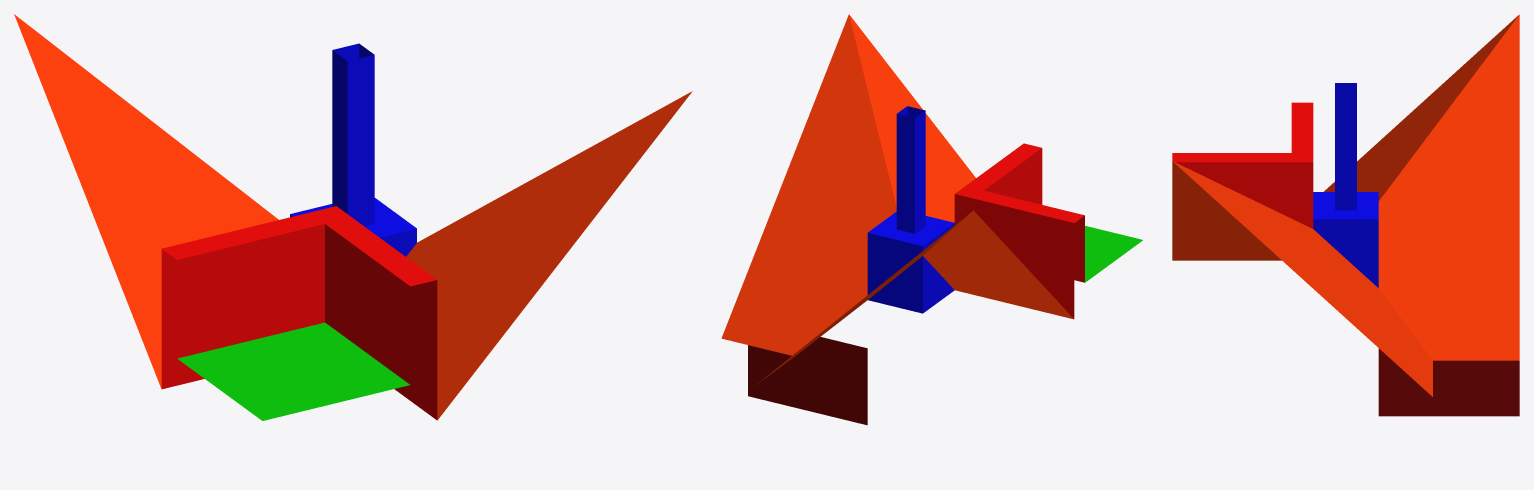
File: None_E_S_E_E_S_W_E_E_BigStrut.fbx
3 renders of one model, left to right at view 1: azimuth 30°, elevation 25°; view 2: azimuth 150°, elevation 25°; view 3: azimuth 270°, elevation 25°, orthographic. The views are drawn at different scales.
Visible parts, largest first — view 1: None_E_S_E_E_S_W_E_E_BigStrut; view 2: None_E_S_E_E_S_W_E_E_BigStrut; view 3: None_E_S_E_E_S_W_E_E_BigStrut.
Part boxes in pixels (bbox=[...]): None_E_S_E_E_S_W_E_E_BigStrut: bbox=[14, 14, 692, 420]; None_E_S_E_E_S_W_E_E_BigStrut: bbox=[721, 14, 1142, 425]; None_E_S_E_E_S_W_E_E_BigStrut: bbox=[1172, 14, 1519, 416].
Bounding box in the file's own units: 100 × 100 × 100.
